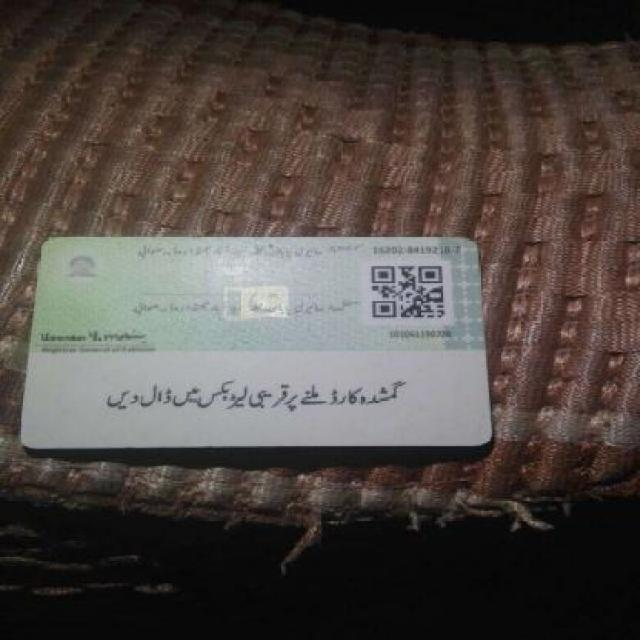Back: (21, 232, 502, 451)
